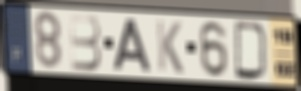6: (198, 20, 230, 79)
8: (33, 10, 63, 71)
A: (111, 16, 154, 74)
B: (68, 12, 104, 72)
D: (233, 19, 271, 83)
K: (154, 18, 185, 76)
